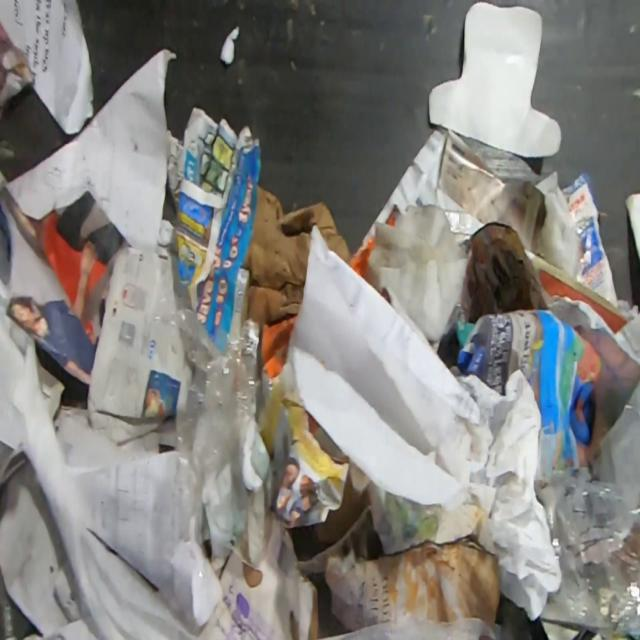cardboard: (427, 1, 562, 159), (196, 508, 321, 640), (241, 184, 354, 326), (560, 170, 620, 306)
soft_plastic: (148, 296, 276, 585), (531, 464, 640, 639)
